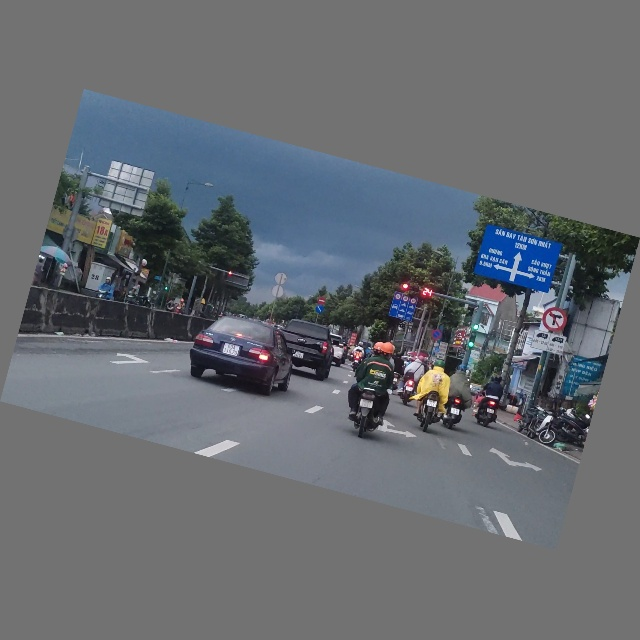P.102: (317, 297, 327, 306)
P.127*60: (394, 294, 402, 301), (402, 296, 409, 303), (410, 298, 417, 305)
P.131a: (431, 330, 442, 341)
P.137: (540, 305, 570, 335)
R.302a: (315, 305, 325, 315)
R.415a: (388, 300, 416, 323)
